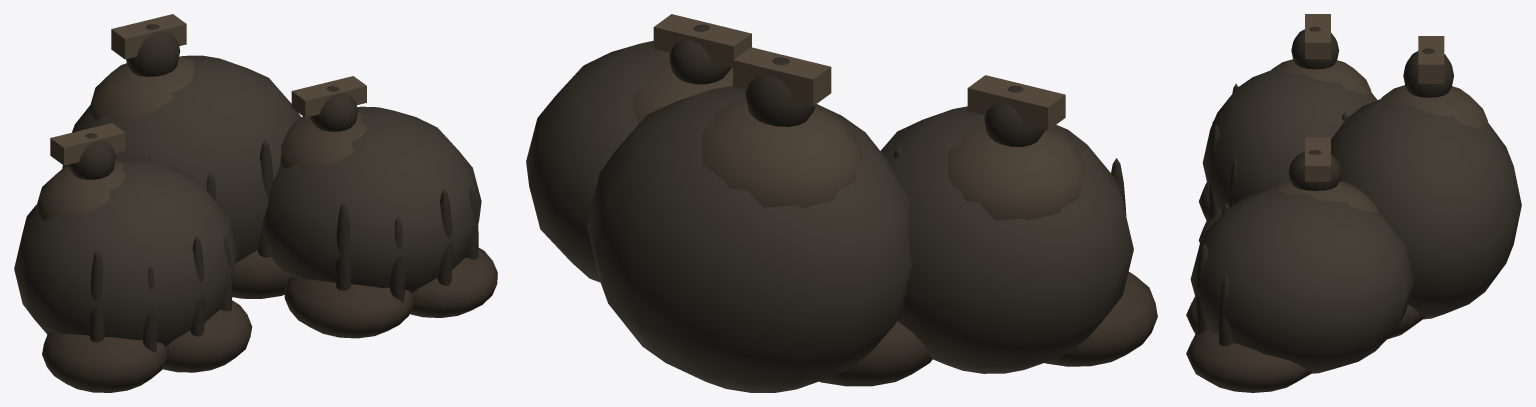
File: CMU3DDecorFloorTrashbags6.glb
3 views of the same model, side by side, from view 1: azimuth 30°, elevation 25°; view 2: azimuth 150°, elevation 25°; view 3: azimuth 270°, elevation 25° (orthographic). The views are drawn at different scales.
Visible parts, largest first — view 1: slumped bag body (×3), rumpled lower bag (×5), gathered bag shoulder (×3), creased bag fold (×9), knotted bag tie (×3), cinched bag neck (×3); view 2: slumped bag body (×3), gathered bag shoulder (×3), knotted bag tie (×3), rumpled lower bag (×2), cinched bag neck (×3); view 3: slumped bag body (×3), rumpled lower bag (×2), gathered bag shoulder (×3), knotted bag tie (×3), cinched bag neck (×3), creased bag fold (×3).
Boxes of the visible parts, bbox=[...] form: slumped bag body (×3): bbox=[14, 55, 481, 346]; rumpled lower bag (×5): bbox=[42, 248, 497, 392]; gathered bag shoulder (×3): bbox=[35, 56, 366, 220]; creased bag fold (×9): bbox=[89, 139, 478, 352]; knotted bag tie (×3): bbox=[50, 14, 366, 165]; cinched bag neck (×3): bbox=[68, 24, 357, 179]; slumped bag body (×3): bbox=[526, 40, 1133, 392]; gathered bag shoulder (×3): bbox=[633, 60, 1086, 220]; knotted bag tie (×3): bbox=[653, 14, 1065, 130]; rumpled lower bag (×2): bbox=[819, 271, 1157, 386]; cinched bag neck (×3): bbox=[669, 24, 1044, 146]; slumped bag body (×3): bbox=[1190, 67, 1521, 373]; rumpled lower bag (×2): bbox=[1186, 304, 1424, 392]; gathered bag shoulder (×3): bbox=[1266, 59, 1489, 212]; knotted bag tie (×3): bbox=[1305, 14, 1444, 181]; cinched bag neck (×3): bbox=[1288, 27, 1453, 190]; creased bag fold (×3): bbox=[1196, 125, 1232, 346].
Bounding box in the file's own units: 0.7608 × 0.4285 × 0.5293.
